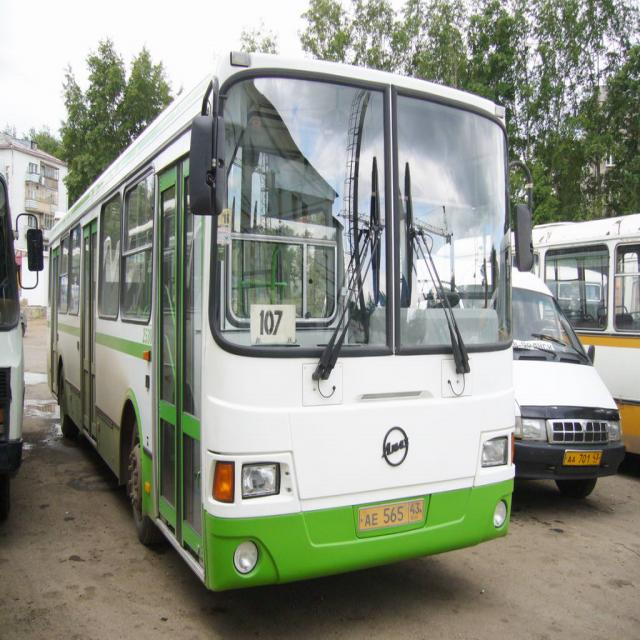number-of-bus: (256, 308, 286, 341)
